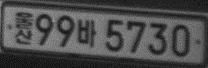0: (171, 23, 190, 57)
3: (148, 21, 167, 55)
5: (104, 18, 124, 52)
7: (126, 19, 146, 54)
9: (56, 14, 75, 47), (35, 12, 53, 46)
바: (77, 18, 97, 47)
울산_V: (14, 11, 33, 45)
